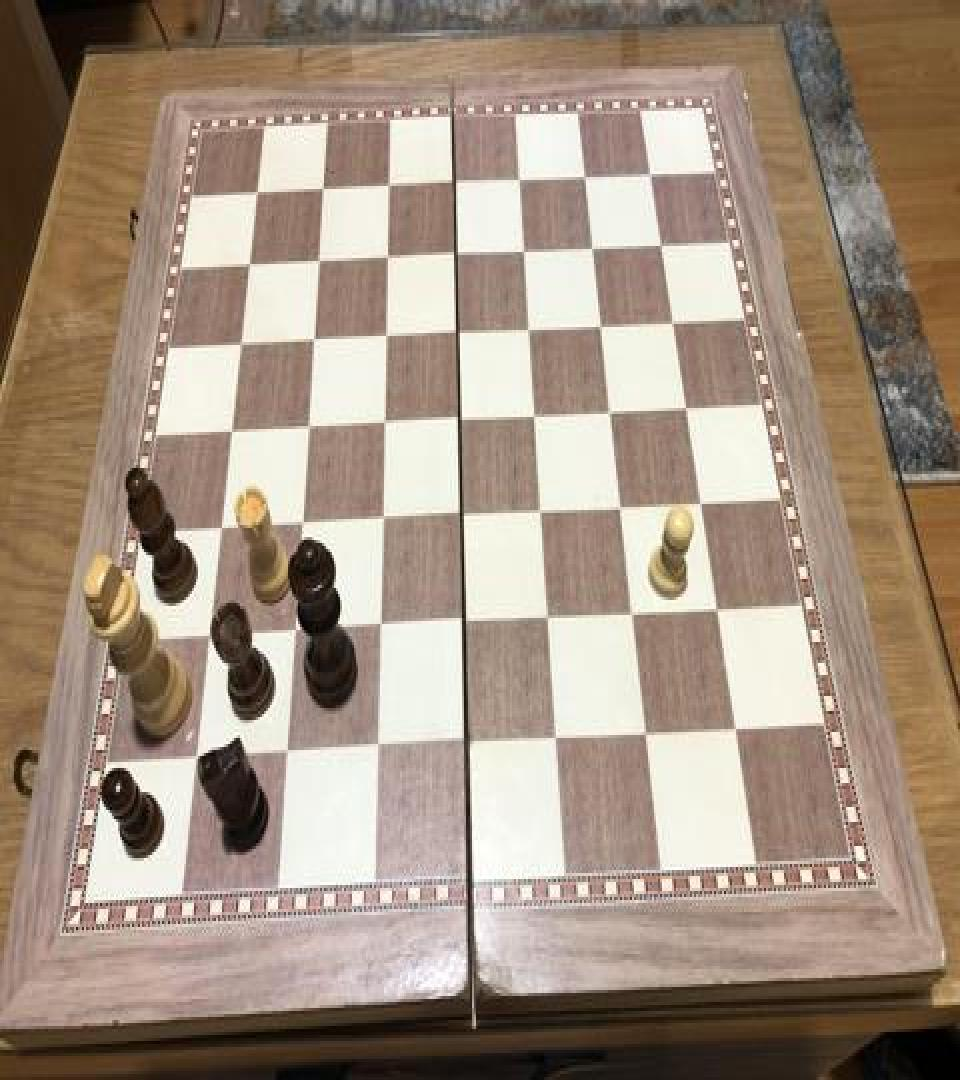xcorner: (632, 712, 656, 749), (543, 718, 567, 755), (186, 739, 210, 776), (638, 156, 662, 192), (573, 159, 597, 195), (508, 164, 532, 200), (443, 166, 467, 202), (378, 170, 402, 206), (313, 174, 337, 210), (247, 177, 271, 213), (649, 226, 673, 262), (581, 230, 605, 266), (513, 234, 537, 270), (445, 237, 469, 273), (376, 242, 400, 278), (308, 246, 332, 282), (240, 249, 264, 285), (660, 303, 684, 339), (589, 308, 613, 344), (518, 312, 542, 348), (446, 315, 470, 351), (375, 320, 399, 356), (303, 324, 327, 360), (673, 388, 697, 424), (598, 393, 622, 429), (523, 398, 547, 434), (448, 402, 472, 438), (373, 406, 397, 442), (297, 411, 321, 447), (222, 416, 246, 452), (688, 483, 712, 519), (608, 488, 632, 524), (529, 492, 553, 528), (450, 498, 474, 534), (370, 502, 394, 538), (291, 507, 315, 543), (211, 512, 235, 548), (703, 590, 727, 626), (620, 594, 644, 630), (536, 598, 560, 634), (452, 604, 476, 640), (368, 609, 392, 645), (284, 614, 308, 650), (199, 620, 223, 656), (721, 708, 745, 744), (454, 724, 478, 760), (365, 729, 389, 765), (276, 735, 300, 771), (231, 329, 255, 364)
